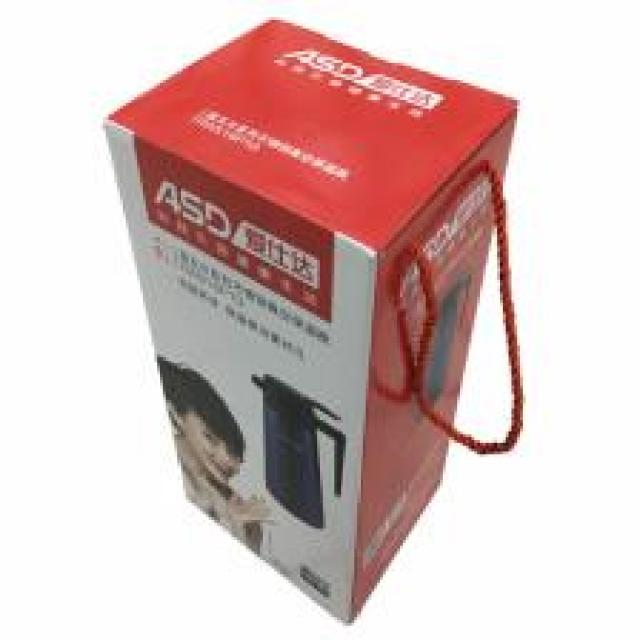box: (99, 16, 512, 630)
